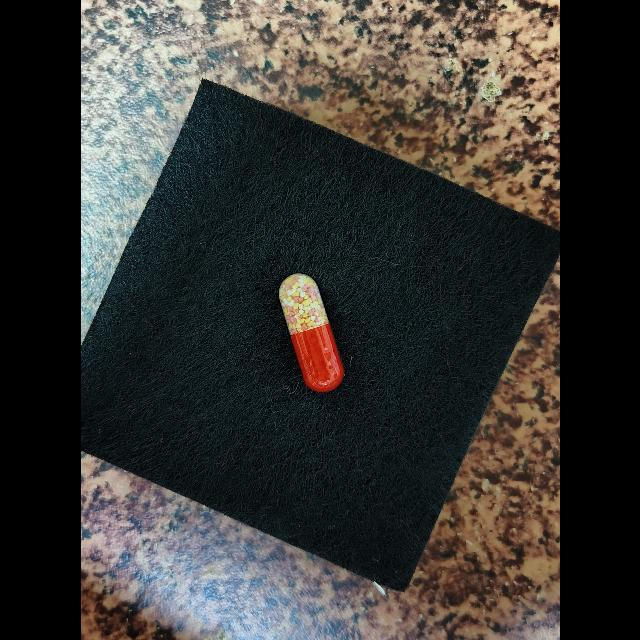Intact Capsule: (278, 273, 344, 392)
